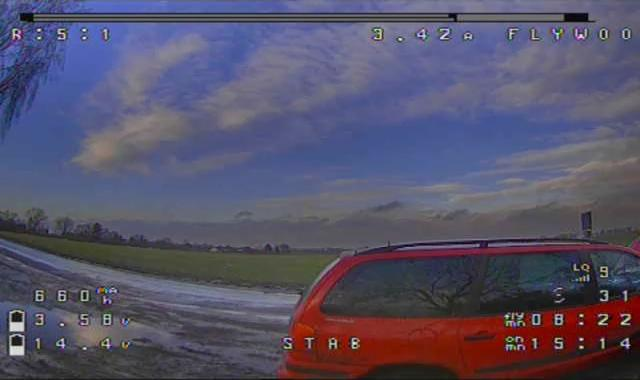car: (285, 234, 638, 378)
